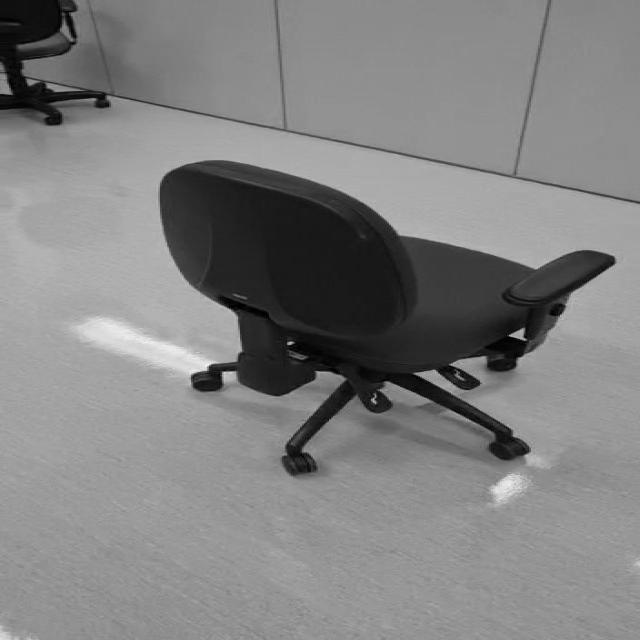chair: (160, 160, 616, 474)
